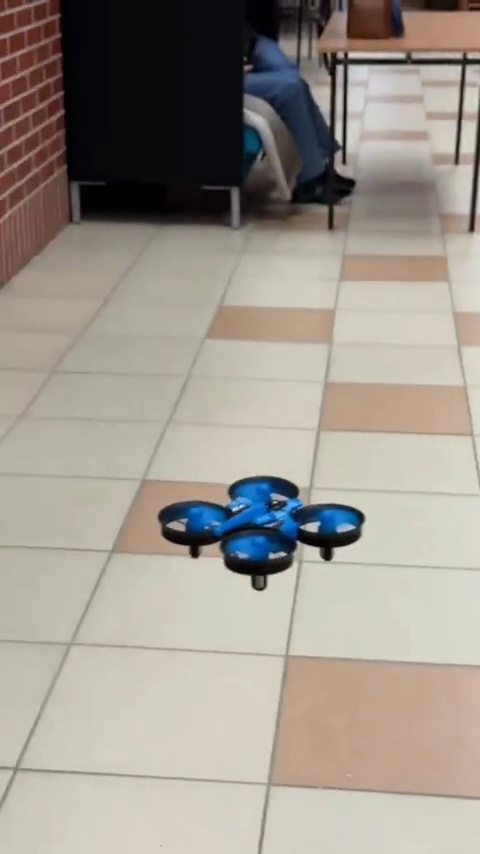drone: (158, 476, 358, 572)
